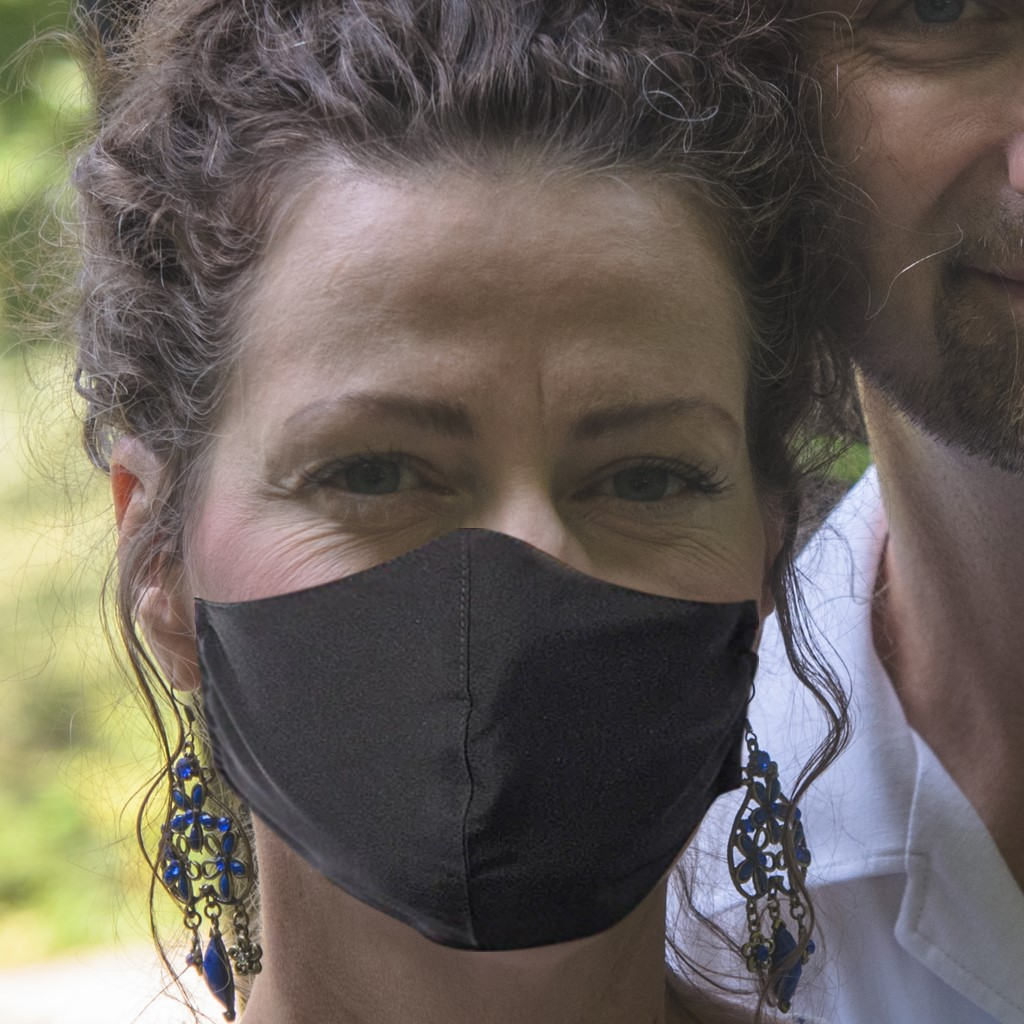con_mascara: (149, 123, 772, 942)
